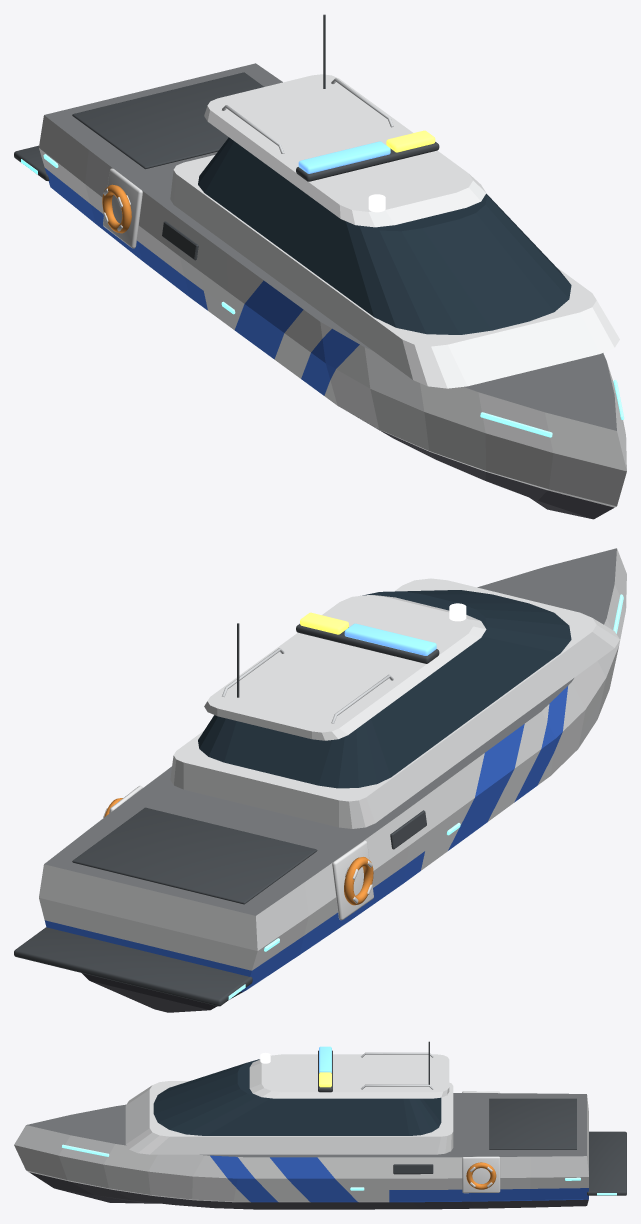
File: rescue-patrol.glb
3 views of the same model, one above another, from view 1: azimuth 30°, elevation 25°; view 2: azimuth 150°, elevation 25°; view 3: azimuth 270°, elevation 25° (orthographic). The views are drawn at different scales.
Parts seen in each view (by area): view 1: patrol_hull, patrol_canopy, patrol_roof, patrol_cabin_base, patrol_engine_hatch, patrol_lightbar_blue, patrol_ring_housing-1, patrol_lightbar_base, patrol_life_ring-1, patrol_lightbar_amber; view 2: patrol_hull, patrol_canopy, patrol_roof, patrol_cabin_base, patrol_engine_hatch, patrol_swim_platform, patrol_ring_housing-1, patrol_lightbar_blue, patrol_lightbar_base, patrol_life_ring-1, patrol_lightbar_amber, patrol_intake-1; view 3: patrol_hull, patrol_canopy, patrol_cabin_base, patrol_roof, patrol_engine_hatch, patrol_swim_platform, patrol_ring_housing+1, patrol_life_ring+1, patrol_intake+1, patrol_lightbar_blue.
Boxes of the visible parts, bbox=[...] form: patrol_hull: bbox=[39, 63, 626, 519]; patrol_canopy: bbox=[198, 137, 571, 334]; patrol_roof: bbox=[204, 74, 486, 227]; patrol_cabin_base: bbox=[170, 155, 619, 388]; patrol_engine_hatch: bbox=[72, 72, 263, 169]; patrol_lightbar_blue: bbox=[298, 141, 390, 173]; patrol_ring_housing-1: bbox=[103, 168, 142, 248]; patrol_lightbar_base: bbox=[296, 142, 439, 181]; patrol_life_ring-1: bbox=[102, 184, 131, 233]; patrol_lightbar_amber: bbox=[386, 130, 435, 152]; patrol_hull: bbox=[39, 548, 626, 1012]; patrol_canopy: bbox=[198, 590, 571, 788]; patrol_roof: bbox=[204, 595, 486, 740]; patrol_cabin_base: bbox=[170, 578, 619, 828]; patrol_engine_hatch: bbox=[72, 807, 317, 904]; patrol_swim_platform: bbox=[14, 927, 252, 1006]; patrol_ring_housing-1: bbox=[332, 840, 373, 920]; patrol_lightbar_blue: bbox=[344, 623, 436, 655]; patrol_lightbar_base: bbox=[296, 624, 439, 663]; patrol_life_ring-1: bbox=[344, 857, 373, 905]; patrol_lightbar_amber: bbox=[300, 612, 348, 634]; patrol_intake-1: bbox=[390, 810, 426, 849]; patrol_hull: bbox=[14, 1093, 588, 1209]; patrol_canopy: bbox=[153, 1059, 441, 1135]; patrol_cabin_base: bbox=[125, 1081, 453, 1154]; patrol_roof: bbox=[249, 1054, 449, 1098]; patrol_engine_hatch: bbox=[489, 1098, 576, 1149]; patrol_swim_platform: bbox=[587, 1131, 626, 1195]; patrol_ring_housing+1: bbox=[462, 1156, 500, 1193]; patrol_life_ring+1: bbox=[466, 1162, 496, 1189]; patrol_intake+1: bbox=[393, 1164, 433, 1174]; patrol_lightbar_blue: bbox=[319, 1046, 331, 1072].
Bounding box in the file's own units: 4.37 × 4.8 × 15.35.
